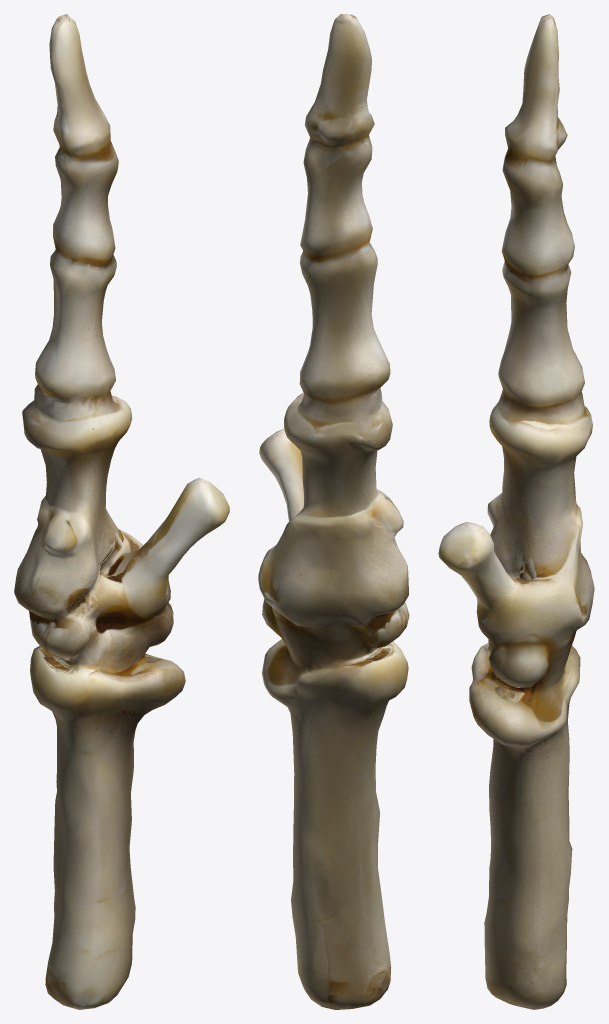
3 views of the same model, side by side, from view 1: azimuth 30°, elevation 25°; view 2: azimuth 150°, elevation 25°; view 3: azimuth 270°, elevation 25° (orthographic).
Parts seen in each view (by area): view 1: Mesh1.0; view 2: Mesh1.0; view 3: Mesh1.0.
Part boxes in pixels (x1,y1,x2,y2): Mesh1.0: (14,14,229,1009); Mesh1.0: (258,14,409,1009); Mesh1.0: (438,14,594,1009).
Size of the model in its own units: 37.19 by 200 by 28.98.
Materials: 1 (1 with a texture image).
